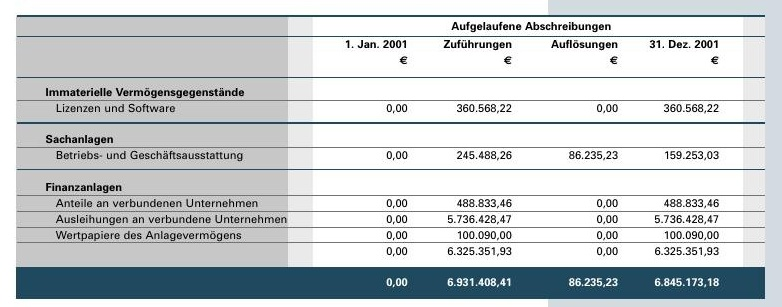table: (0, 0, 782, 307)
